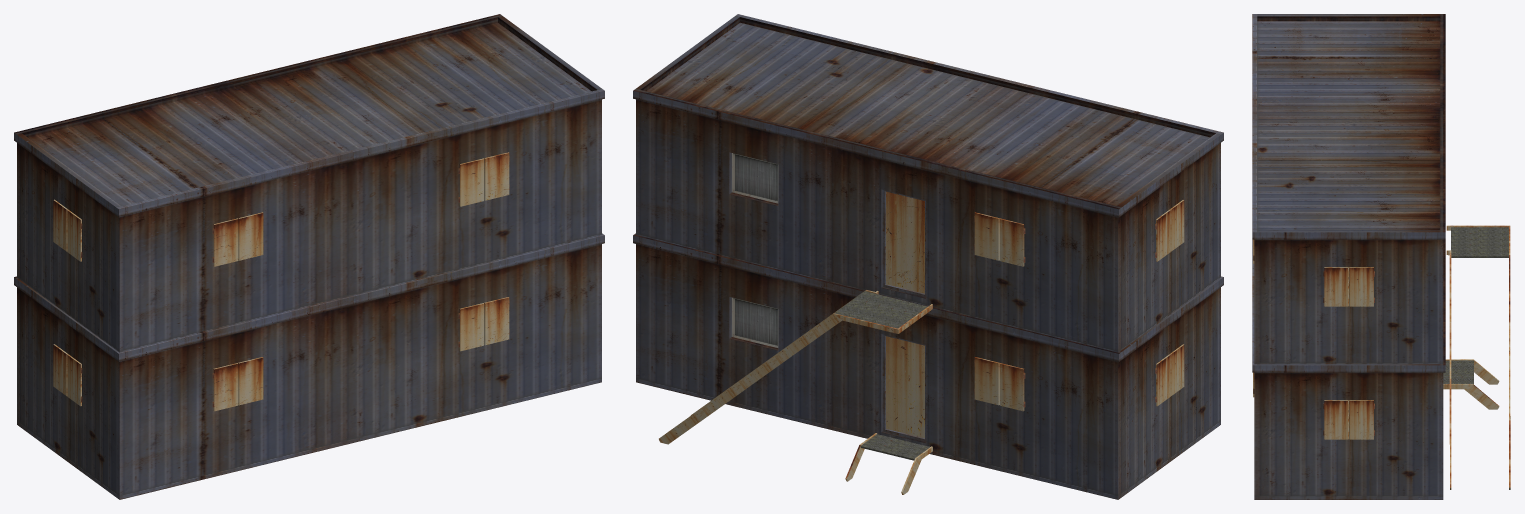
File: container_1_lod1.FBX
The picture shows the model from 3 angles, left to right: view 1: azimuth 30°, elevation 25°; view 2: azimuth 150°, elevation 25°; view 3: azimuth 270°, elevation 25°; orthographic projection. The views are drawn at different scales.
Visible parts, largest first — view 1: Mesh Object; view 2: Mesh Object; view 3: Mesh Object.
Boxes of the visible parts, x1,y1,x2,y2 form: Mesh Object: (14, 14, 604, 499); Mesh Object: (633, 14, 1223, 499); Mesh Object: (1252, 14, 1510, 499).
Size of the model in its own units: 10.88 by 6.65 by 5.44.
